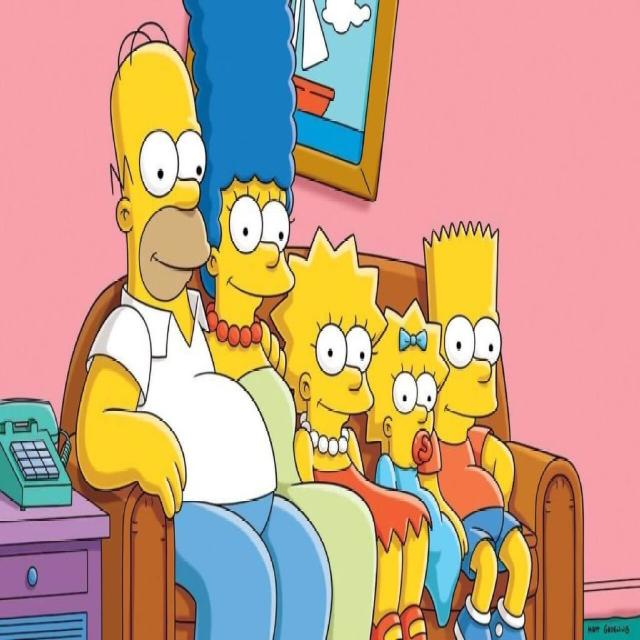Bart Simpson: (421, 218, 503, 451)
Homer Simpson: (105, 17, 214, 326)
Lisa Simpson: (268, 222, 390, 458)
Maggie Simpson: (357, 294, 452, 475)
Marge Simpson: (180, 0, 300, 351)
